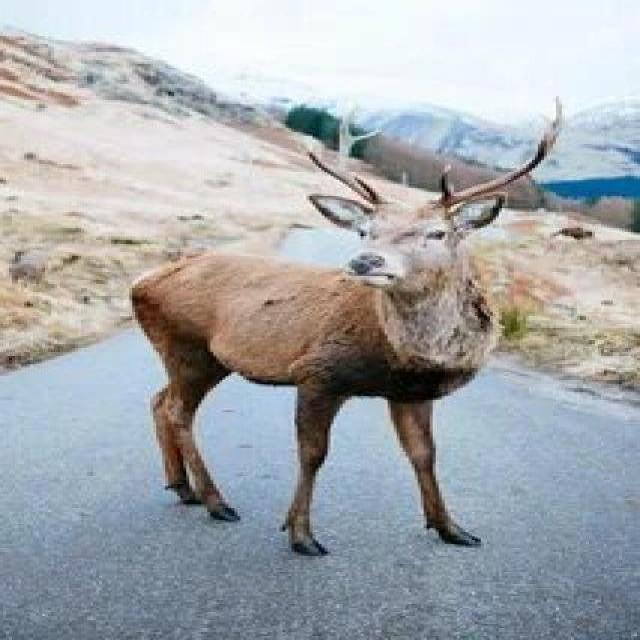deer: (117, 103, 567, 568)
